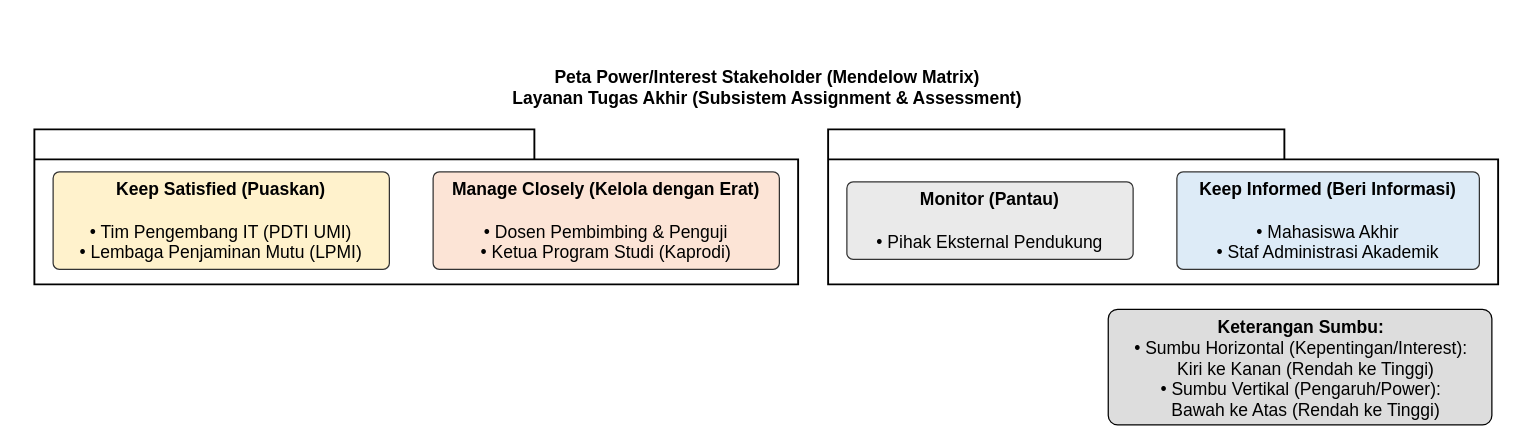
Some shapes in this 1520 by 446 pixel diagram are drawn without their labels. Each missing label, with the box of its shape:
Pengaruh (Power) Rendah: (827, 128, 1498, 285)
Pengaruh (Power) Tinggi: (33, 128, 798, 285)
